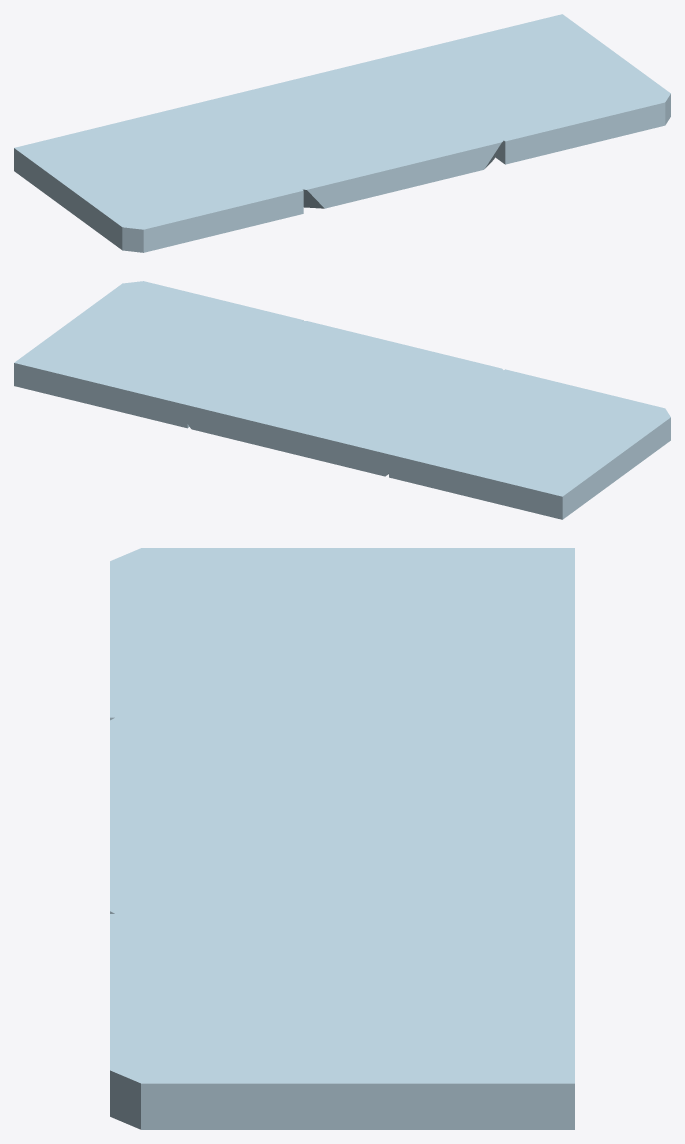
The model's file is STAM - M3.gltf.
3 renders of one model, top to bottom at view 1: azimuth 30°, elevation 25°; view 2: azimuth 150°, elevation 25°; view 3: azimuth 270°, elevation 25°, orthographic. The views are drawn at different scales.
Parts seen in each view (by area): view 1: M3; view 2: M3; view 3: M3.
Part boxes in pixels (left/top/right/bottom): M3: left=14, top=14, right=670, bottom=252; M3: left=14, top=281, right=670, bottom=519; M3: left=110, top=548, right=574, bottom=1129.
Bounding box in the file's own units: 0.0409 × 0.00165 × 0.015.
